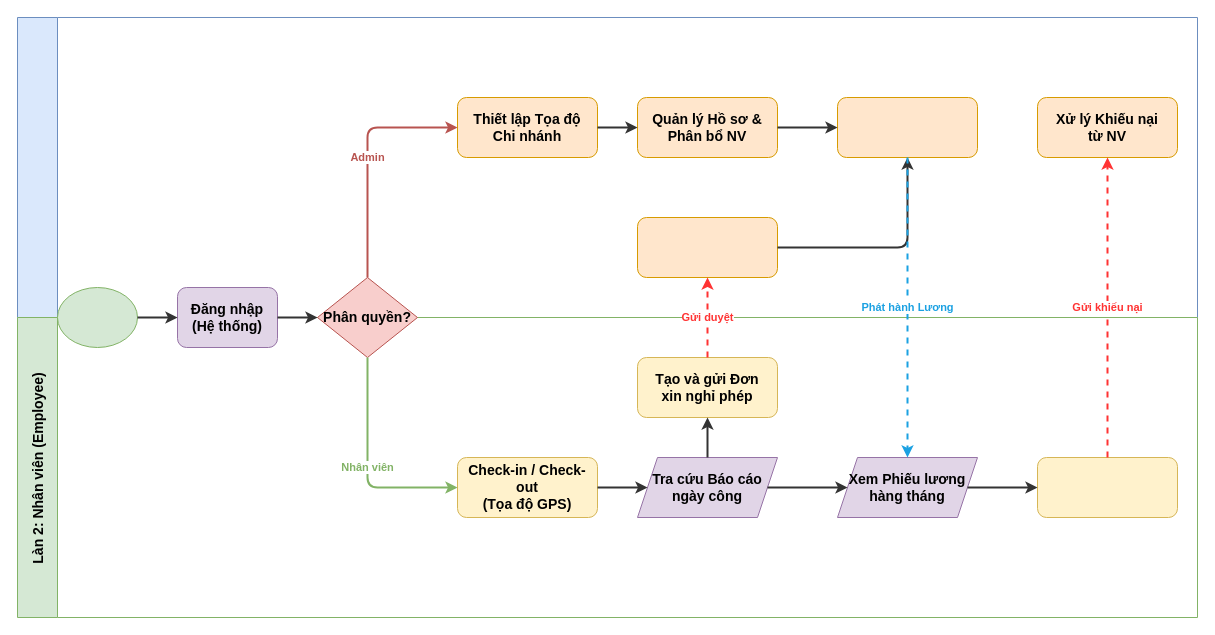
The diagram is 1215 pixels wide and 635 high, and some of its shapes have lost their labels. The box of each missing label's shape, as (x1, y1, x2, y2) in pixels:
Bắt đầu: (56, 286, 138, 348)
Chạy nghiệp vụ Tính lương: (836, 96, 978, 158)
Làn 1: Quản trị viên (Admin): (16, 16, 1198, 318)
Tiếp nhận & Phê duyệt Đơn: (636, 216, 778, 278)
Tạo Khiếu nại lương / công: (1036, 456, 1178, 518)
